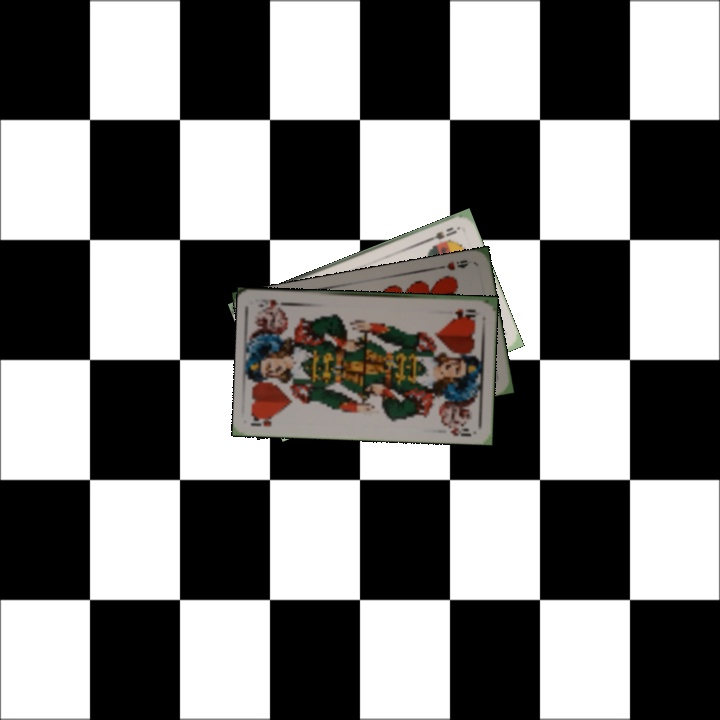H9: (434, 256, 472, 273)
HO: (247, 412, 277, 430), (450, 304, 481, 319)
SO: (421, 223, 460, 245)
